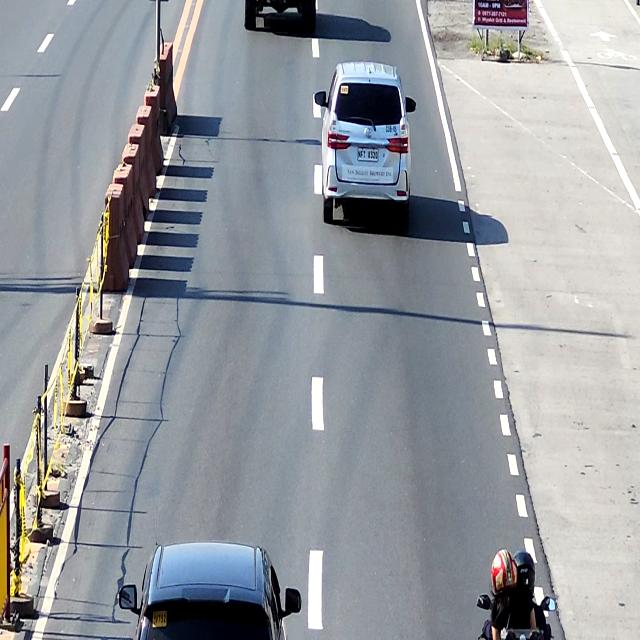Car: (118, 544, 303, 640), (315, 61, 417, 229)
License-Plate: (357, 148, 379, 163)
